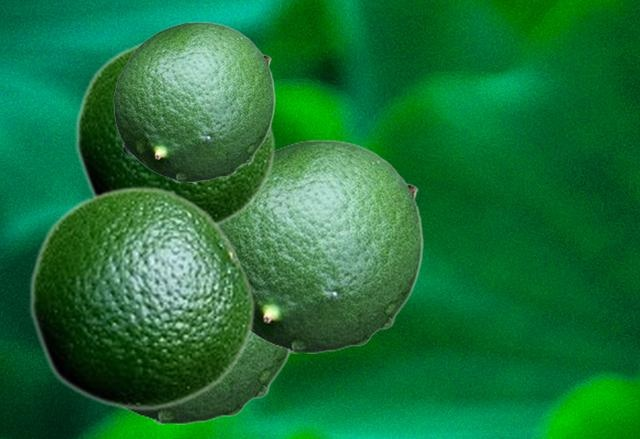calamansi: (28, 185, 255, 411), (222, 139, 422, 352), (74, 37, 275, 227), (113, 21, 274, 181), (123, 336, 292, 423)
